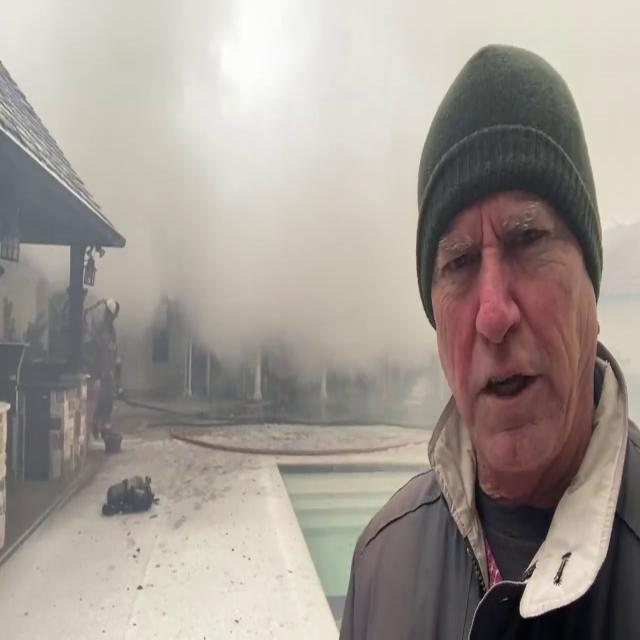Smoke: (2, 1, 424, 494)
